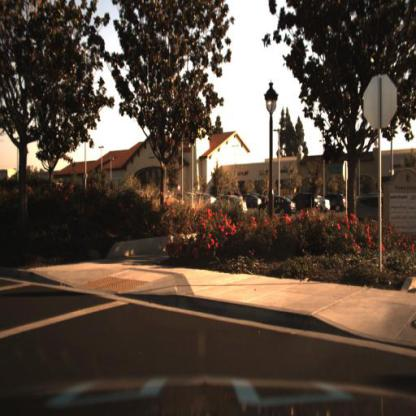car: (259, 197, 297, 216), (289, 193, 322, 214), (191, 194, 216, 210), (306, 196, 331, 212), (241, 195, 263, 209)
